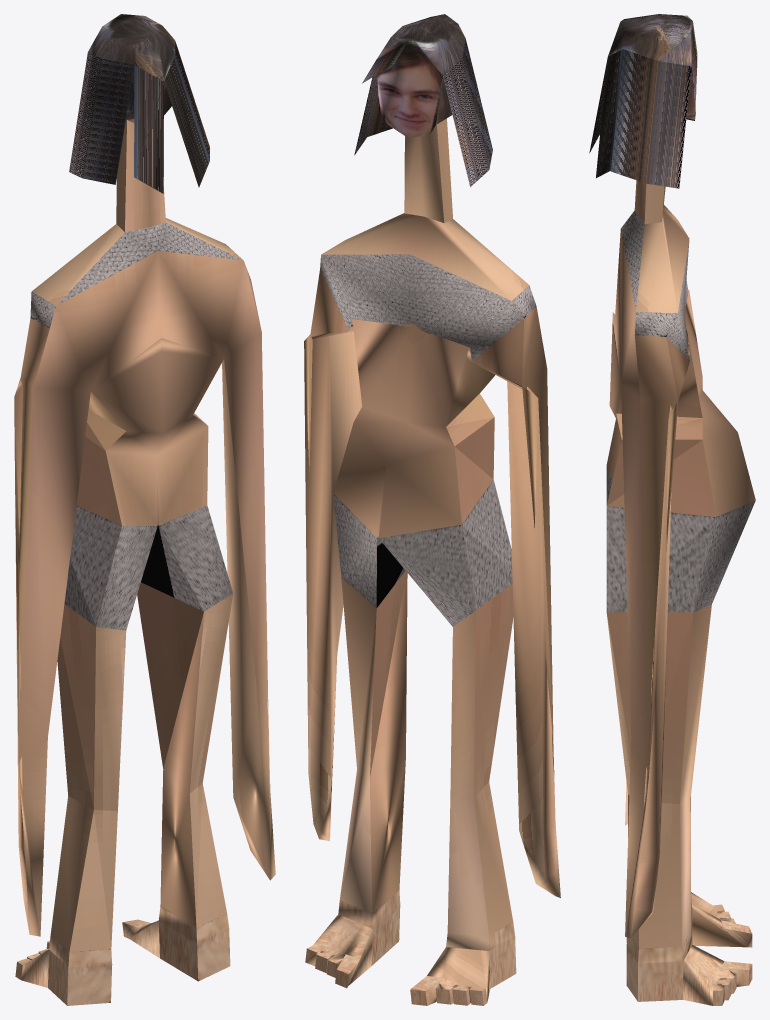
File: otso.glb
3 renders of one model, left to right at view 1: azimuth 30°, elevation 25°; view 2: azimuth 150°, elevation 25°; view 3: azimuth 270°, elevation 25°, orthographic.
Visible parts, largest first — view 1: Cube, Roundcube, Cube.001; view 2: Cube, Roundcube, Cube.001; view 3: Cube, Roundcube, Cube.001.
Boxes of the visible parts, bbox=[...] form: Cube: bbox=[14, 119, 275, 1005]; Roundcube: bbox=[69, 14, 209, 193]; Cube.001: bbox=[116, 119, 165, 232]; Cube: bbox=[304, 213, 560, 1005]; Roundcube: bbox=[354, 14, 492, 187]; Cube.001: bbox=[404, 118, 452, 222]; Cube: bbox=[606, 205, 755, 1005]; Roundcube: bbox=[589, 14, 697, 188]; Cube.001: bbox=[634, 180, 665, 224].
Bounding box in the file's own units: 0.7129 × 2.62 × 0.4162.
3 materials, 3 textured.
